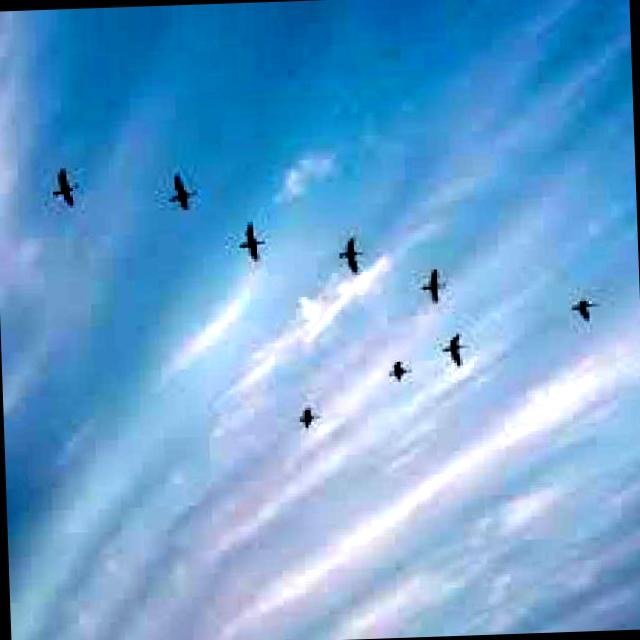bird: (42, 160, 89, 219), (332, 232, 372, 296), (230, 216, 275, 268), (558, 286, 608, 332), (412, 264, 457, 312), (164, 166, 197, 226), (288, 396, 332, 441), (440, 323, 476, 371), (384, 349, 418, 392)
